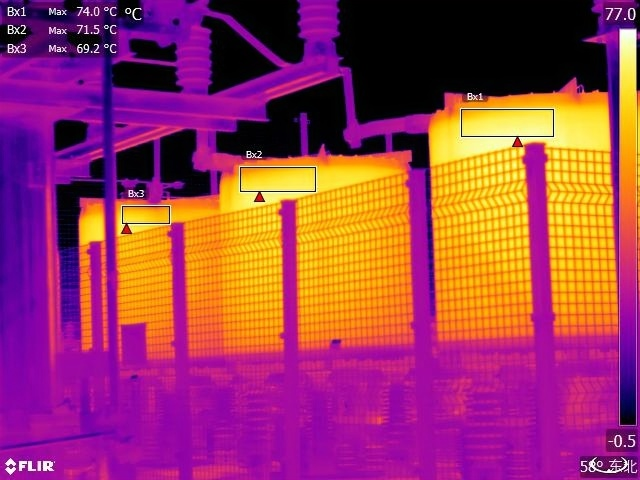post insulator: (167, 26, 216, 92), (298, 1, 347, 46)
